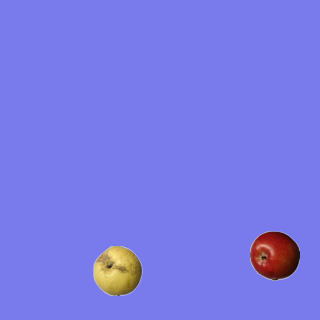Apple Braeburn: (249, 230, 299, 280)
Apple Golden 1: (92, 245, 142, 295)
